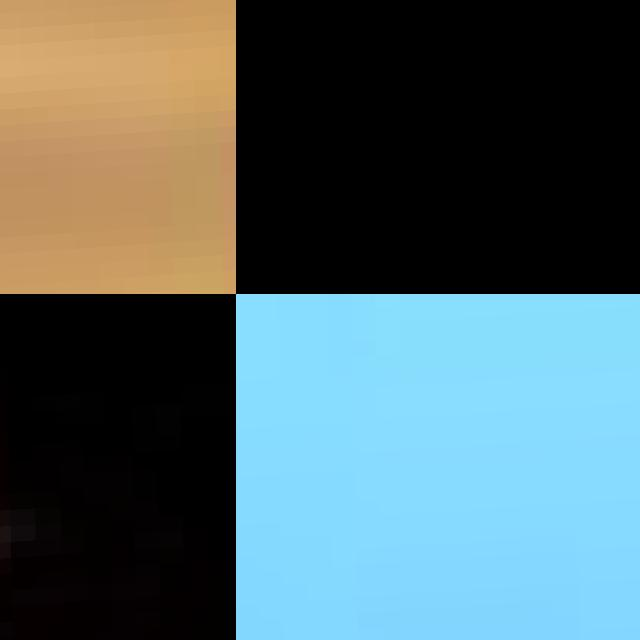street light: (236, 294, 640, 640), (0, 294, 236, 640), (0, 0, 236, 294)
